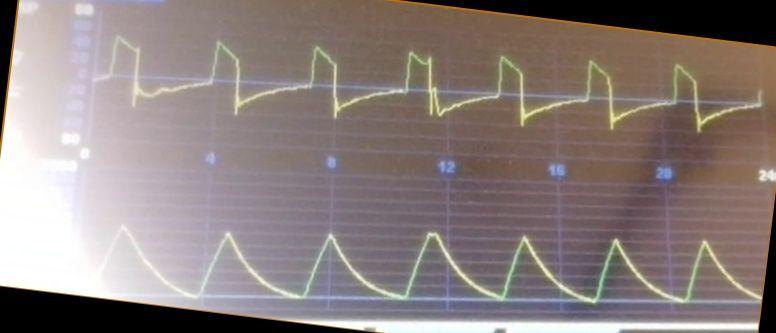Premature_cycling Flow: (97, 30, 764, 136)
Premature_cycling Volume: (96, 221, 758, 306)
